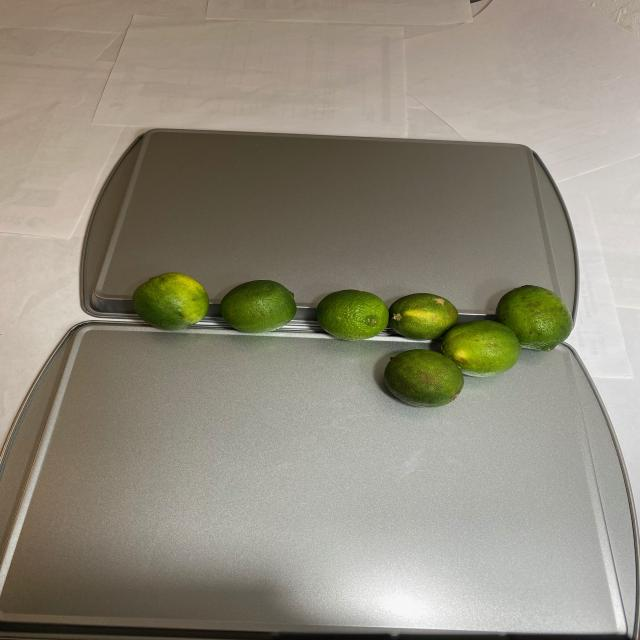lemon: (113, 270, 574, 406)
